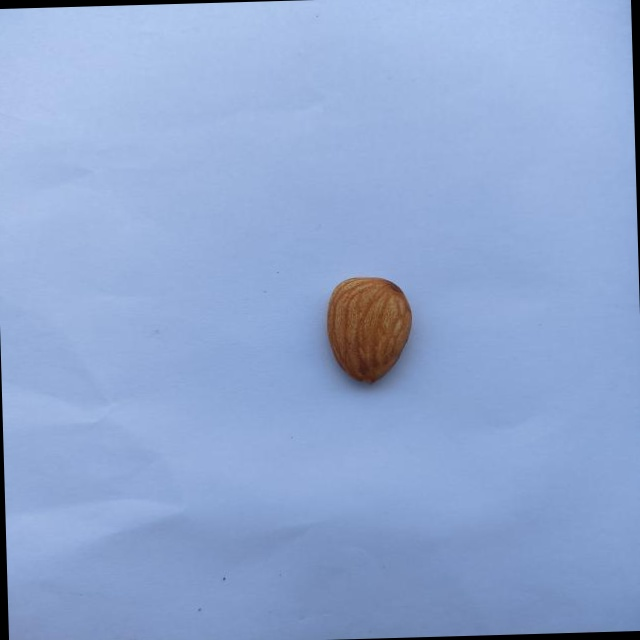grade1: (315, 269, 420, 393)
